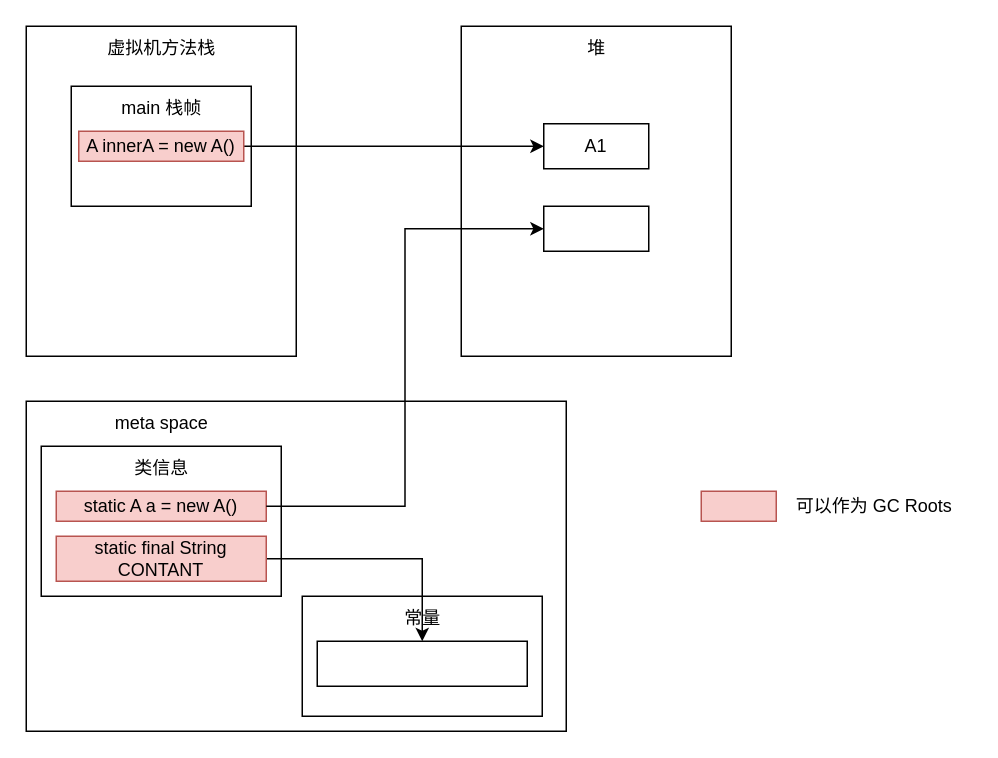
The diagram is 998 pixels wide and 758 high, and some of its shapes have lost their labels. The shapes that lost their labels are listed below. From the top down, each one's box as (x1, y1, x2, y2) in pixels, then its label:
(542, 205, 649, 251): A2
(316, 640, 527, 686): "I am a String"
